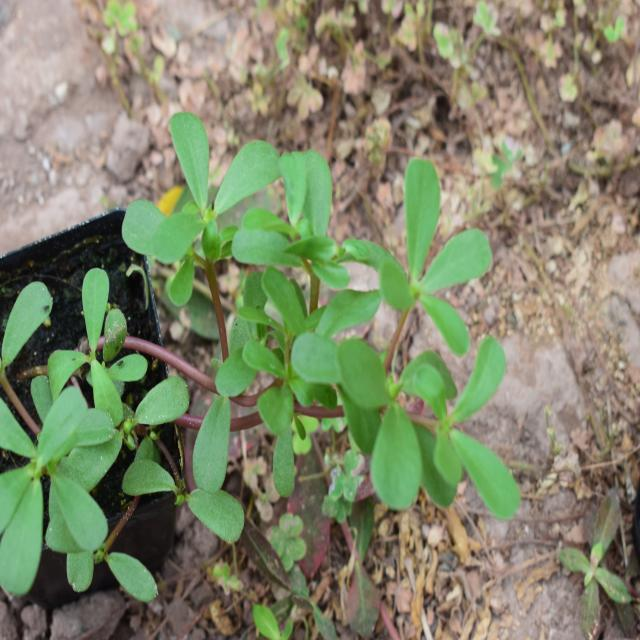purslane: (144, 106, 531, 519), (0, 284, 187, 576)
